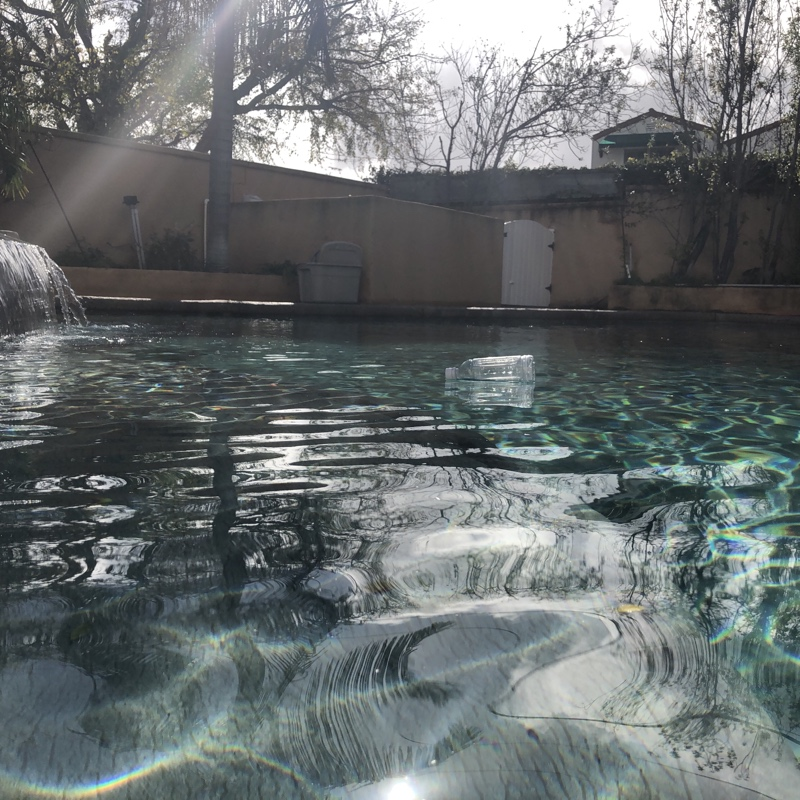Plastic Bottle: (440, 350, 538, 387)
